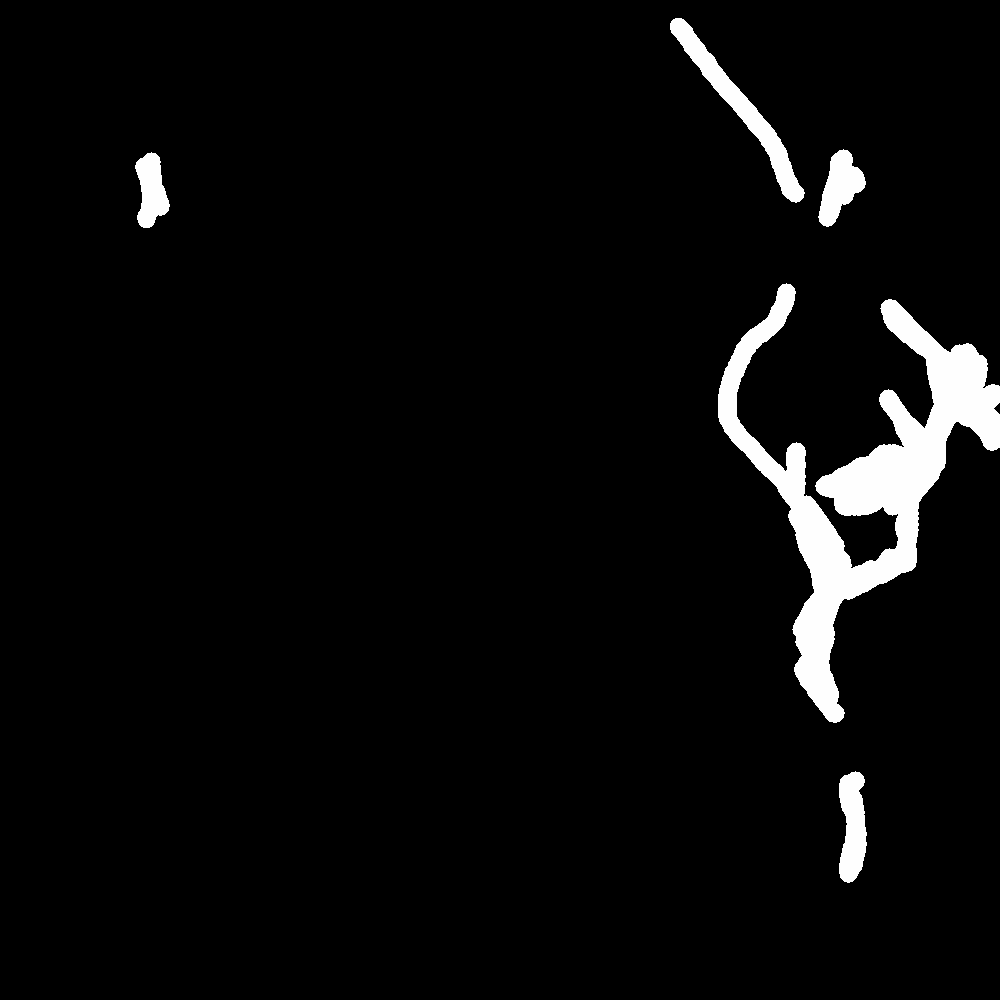illegal: (793, 331, 1000, 710), (688, 275, 801, 429), (723, 430, 803, 503), (131, 150, 174, 222), (821, 146, 862, 221), (838, 771, 869, 857)
